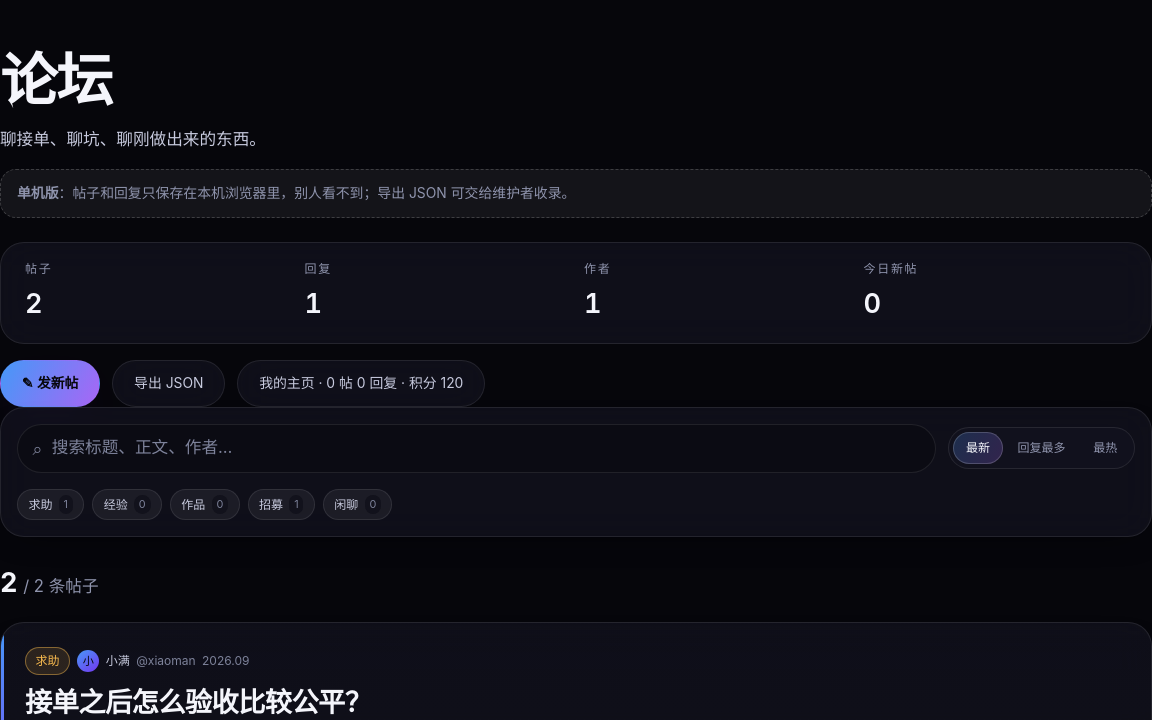
ForumPage › 按分类与关键词收窄
Step 1. Click the button "招募 1" → (281, 504), box [248,489,315,520]
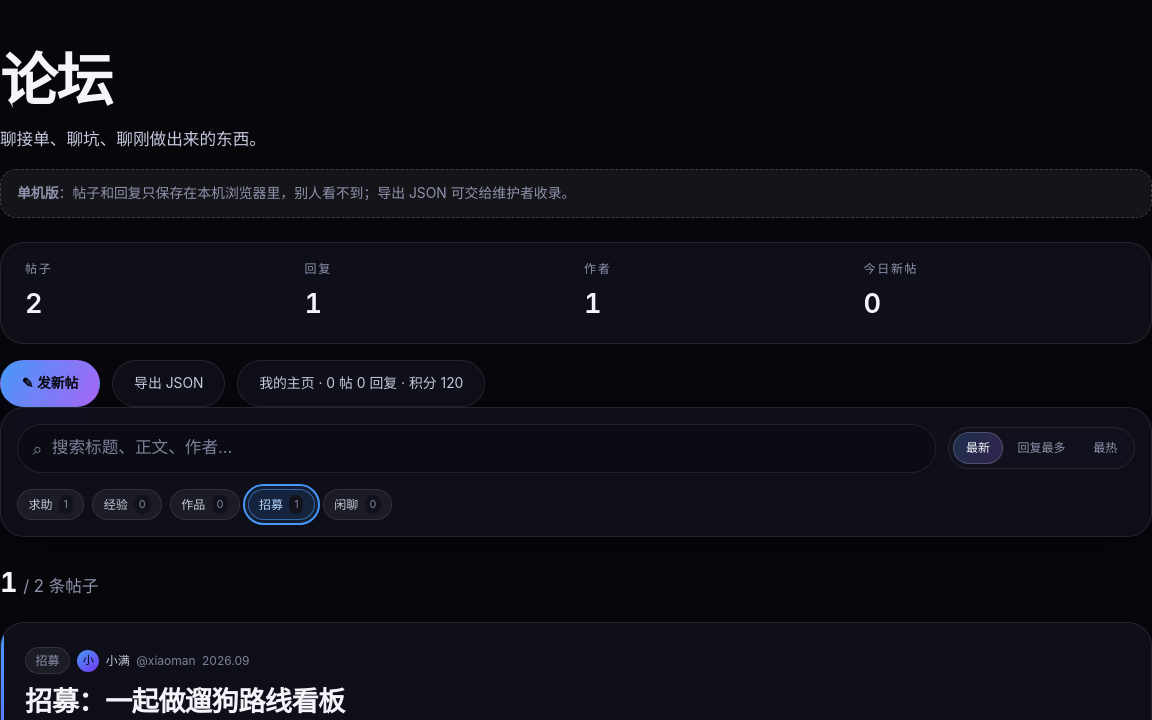
Expected: the text with test id "forum-count" reads "1", [0,561,18,606]
Step 2. Click the button "招募 1" → (281, 504), box [248,489,315,520]
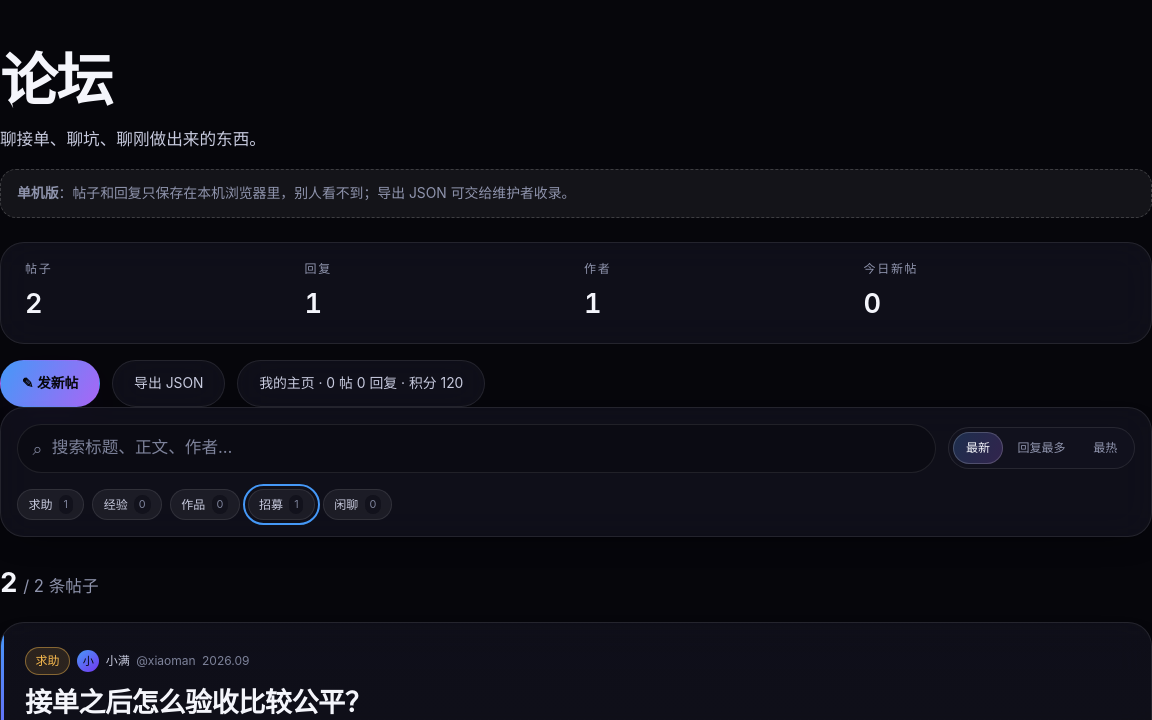
Step 3. Type "验收" into the search field named "搜索帖子" → (482, 448), box [42,424,921,472]
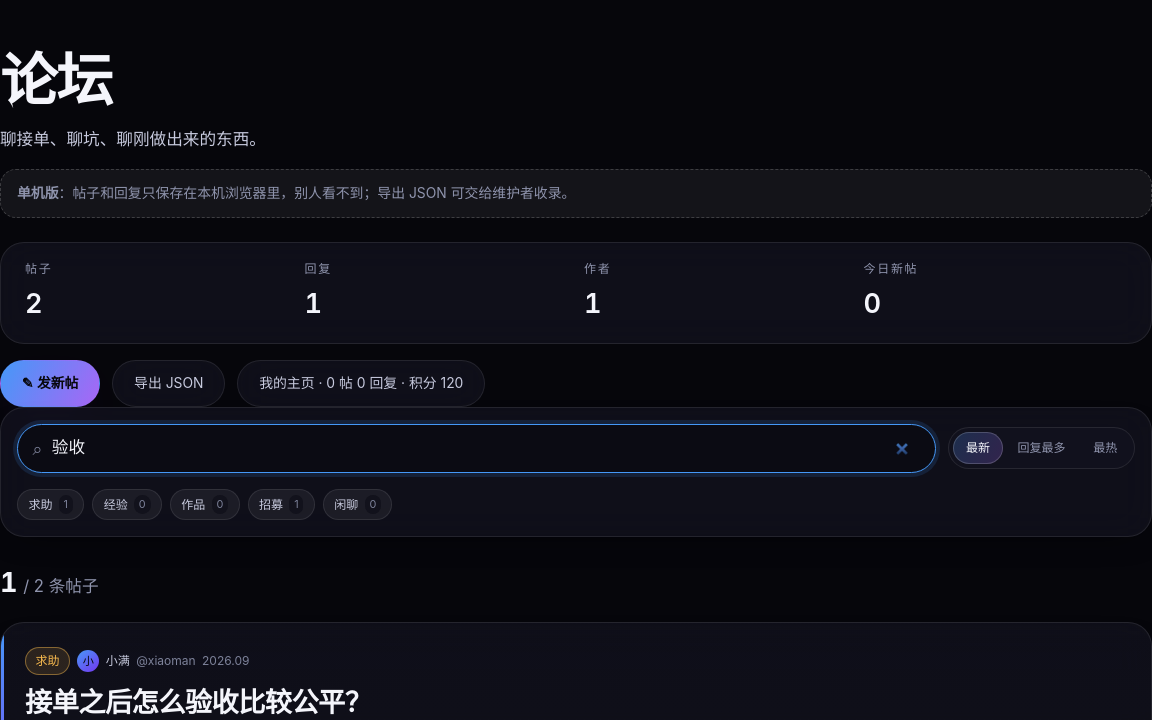
Expected: the text with test id "forum-count" reads "1", [0,561,18,606]
